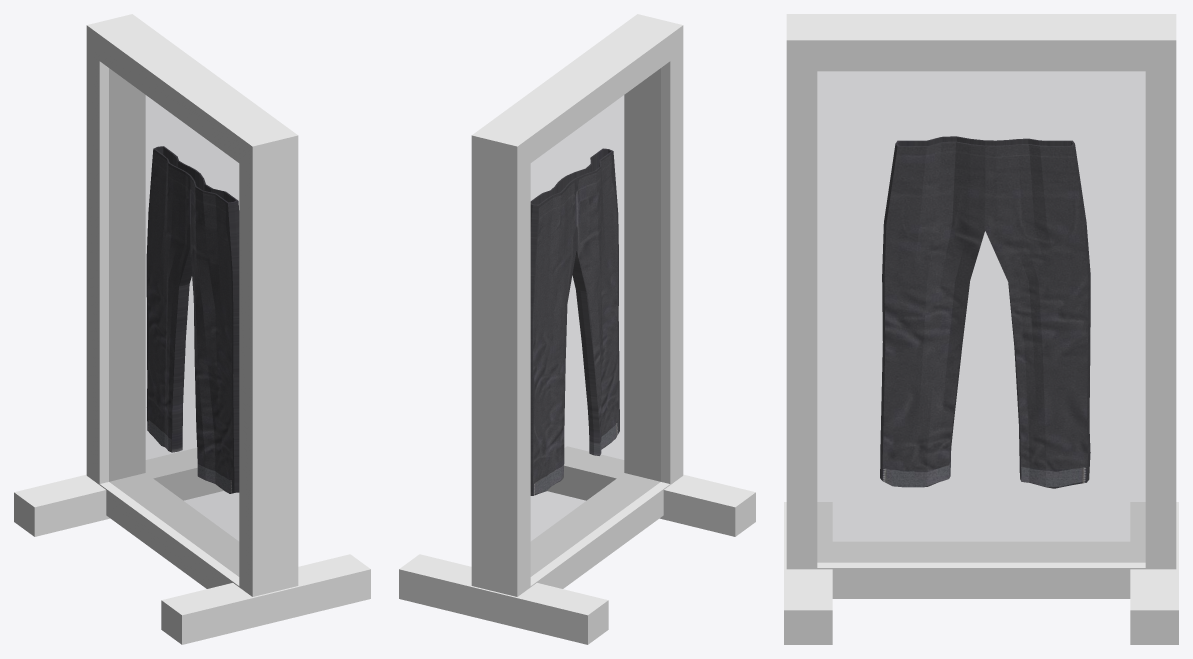
File: crow.gltf
The picture shows the model from 3 angles, left to right: view 1: azimuth 30°, elevation 25°; view 2: azimuth 150°, elevation 25°; view 3: azimuth 270°, elevation 25°; orthographic projection. The views are drawn at different scales.
Visible parts, largest first — view 1: Cube.058, Plane.020; view 2: Cube.058, Plane.020; view 3: Cube.058, Plane.020.
Boxes of the visible parts, <box> form: Cube.058: <box>14,14,370,644</box>; Plane.020: <box>146,146,239,493</box>; Cube.058: <box>399,14,755,644</box>; Plane.020: <box>530,148,619,495</box>; Cube.058: <box>784,14,1178,644</box>; Plane.020: <box>880,136,1090,488</box>.
Bounding box in the file's own units: 0.2894 × 0.7029 × 0.4462.
Materials: 4 (1 with a texture image).
